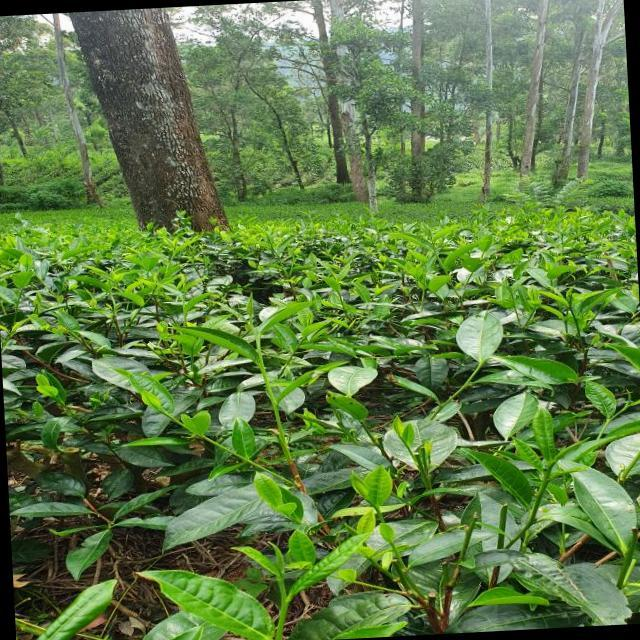Stem: (283, 599, 289, 606), (260, 364, 264, 370), (377, 510, 381, 515), (545, 478, 549, 482)
